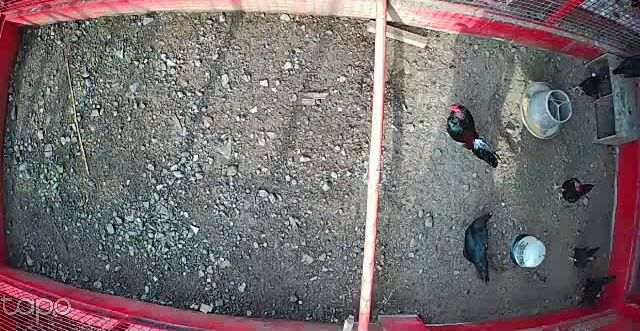Chicken: (462, 211, 495, 286), (572, 273, 623, 311), (569, 65, 613, 103), (551, 171, 595, 207), (567, 244, 601, 270)
Feeder: (518, 80, 572, 141)
Rooster: (440, 96, 504, 173)
